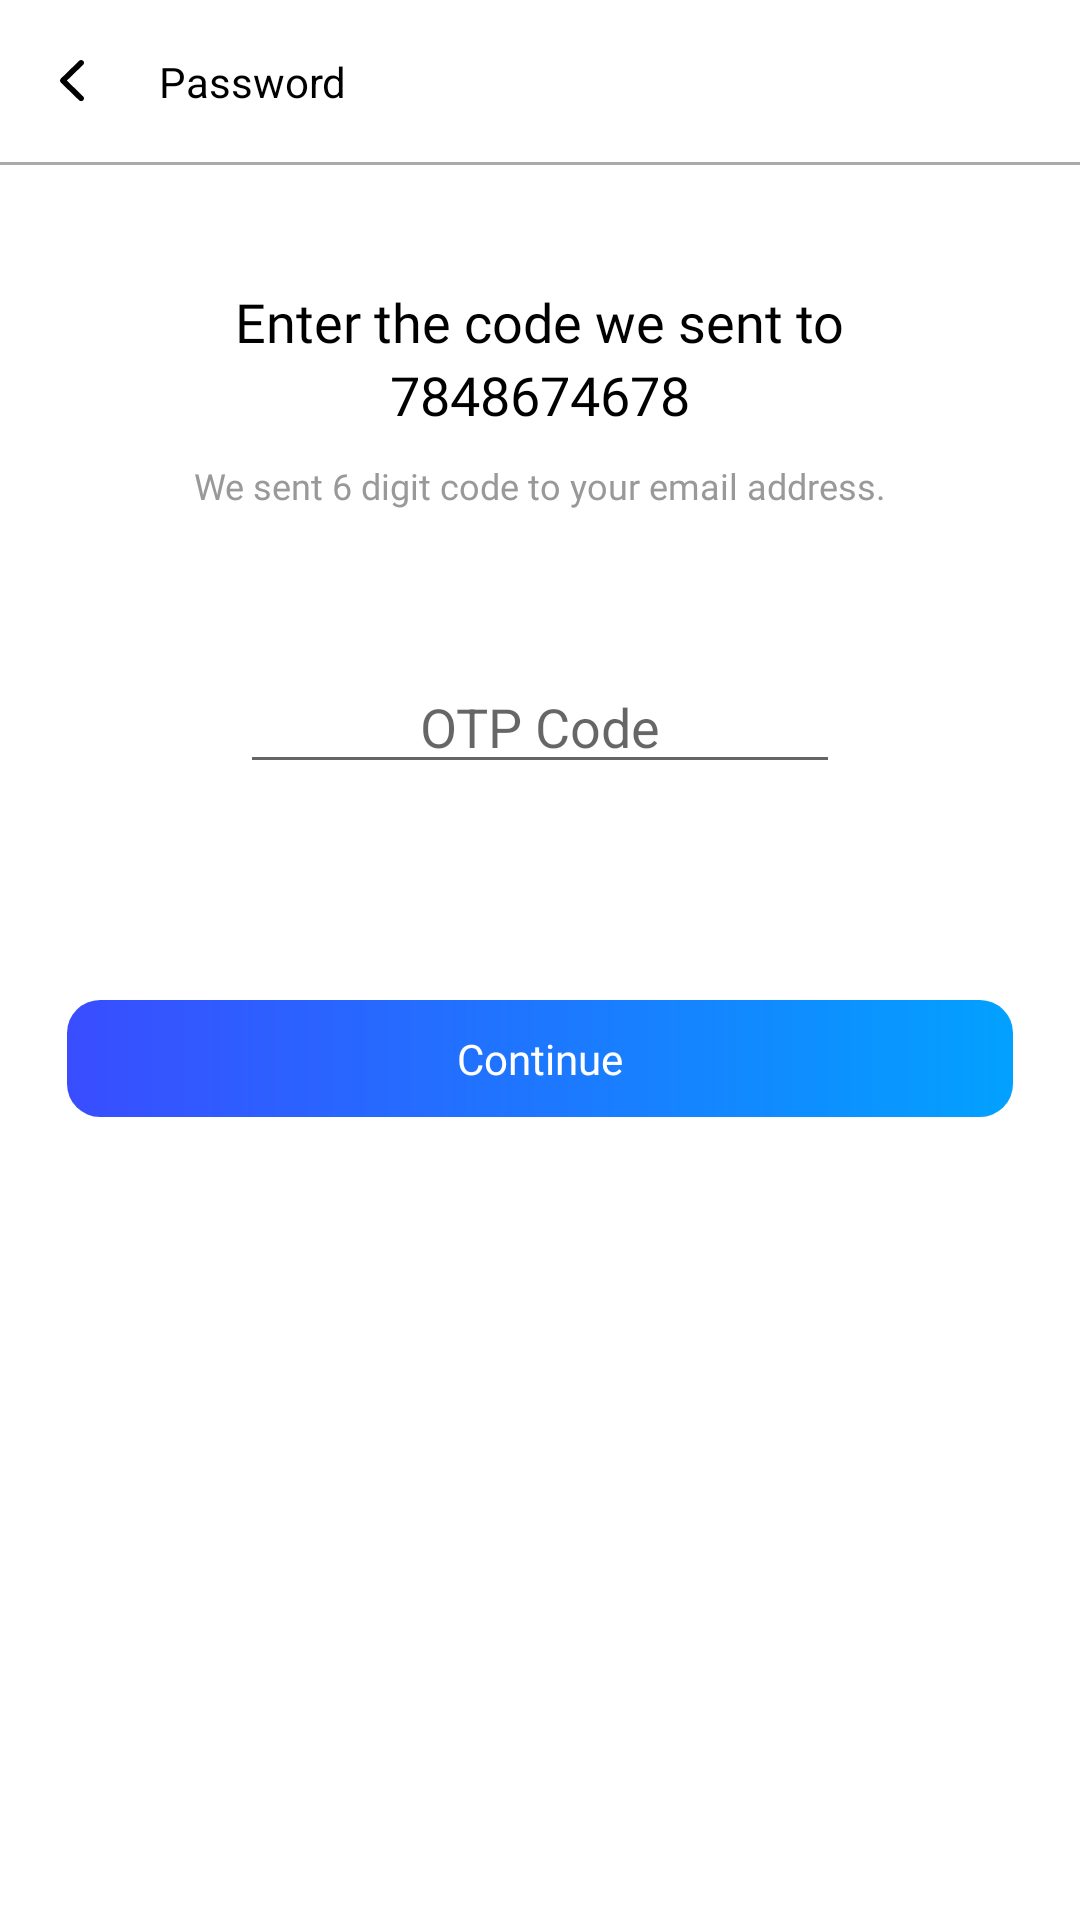

Screen size 1080w x 1920h. Icon name, then its center in pixels as (x,y):
back create account: (72,80)
